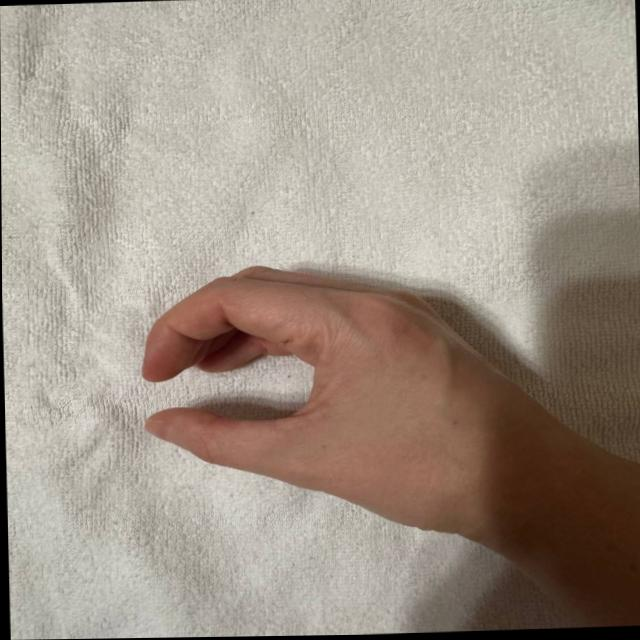s: (84, 238, 495, 532)
